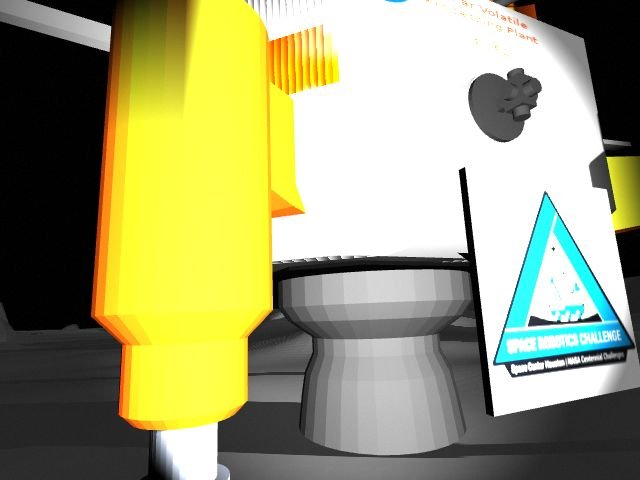basemarker: (492, 191, 635, 379)
